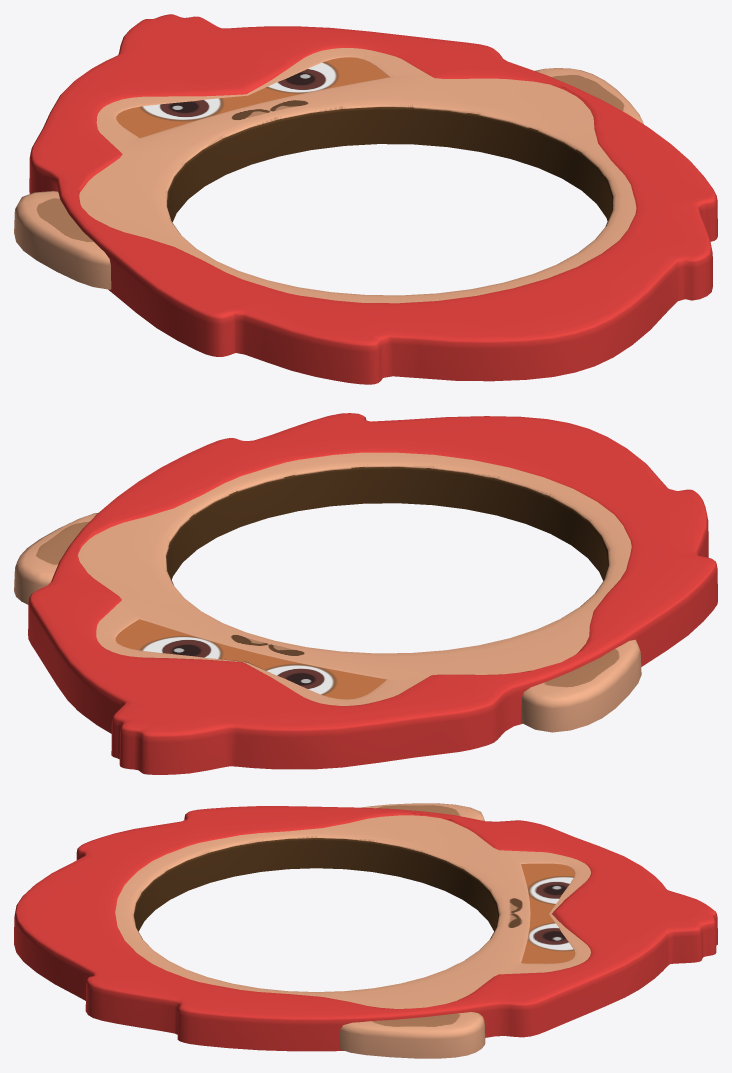
Rendered from Kong 1.fbx.
3 views of the same model, one above another, from view 1: azimuth 30°, elevation 25°; view 2: azimuth 150°, elevation 25°; view 3: azimuth 270°, elevation 25° (orthographic). The views are drawn at different scales.
Visible parts, largest first — view 1: hole, eye; view 2: hole, eye; view 3: hole, eye.
Part boxes in pixels (box(x1,y1,x2,y2)): hole: box(14, 14, 717, 384); eye: box(116, 57, 388, 137); hole: box(14, 413, 717, 774); eye: box(115, 619, 386, 699); hole: box(14, 803, 717, 1058); eye: box(521, 863, 574, 963).
Bounding box in the file's own units: 3.01 × 0.2083 × 3.85.
